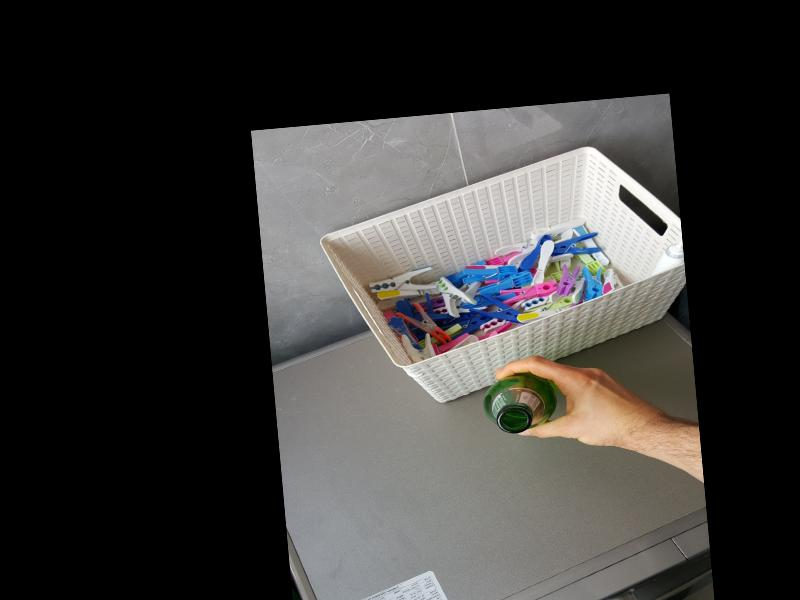Beer: (480, 370, 560, 437)
